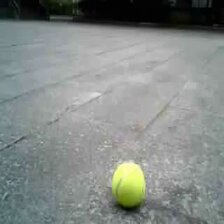tennis: (114, 165, 146, 204)
